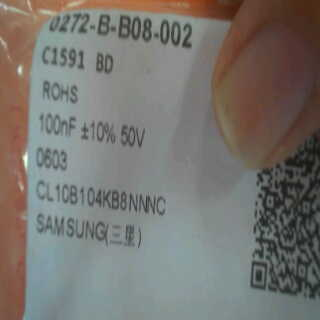100nF: (35, 108, 80, 144)
